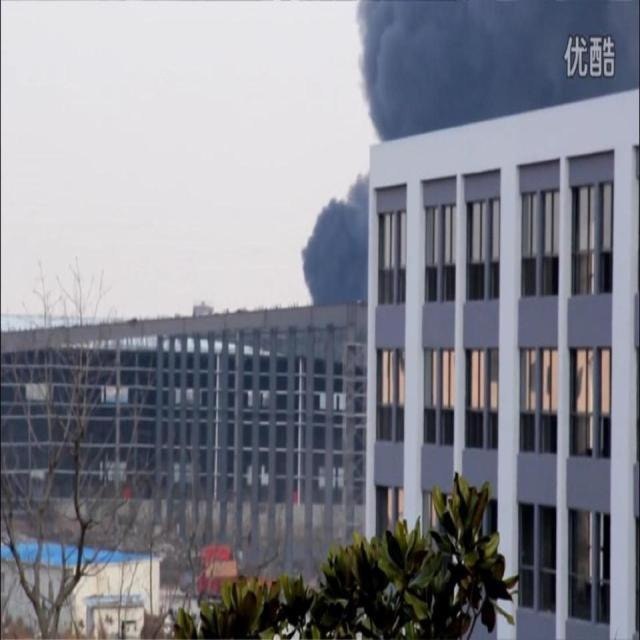Smoke: (354, 1, 640, 142), (300, 173, 370, 306)
